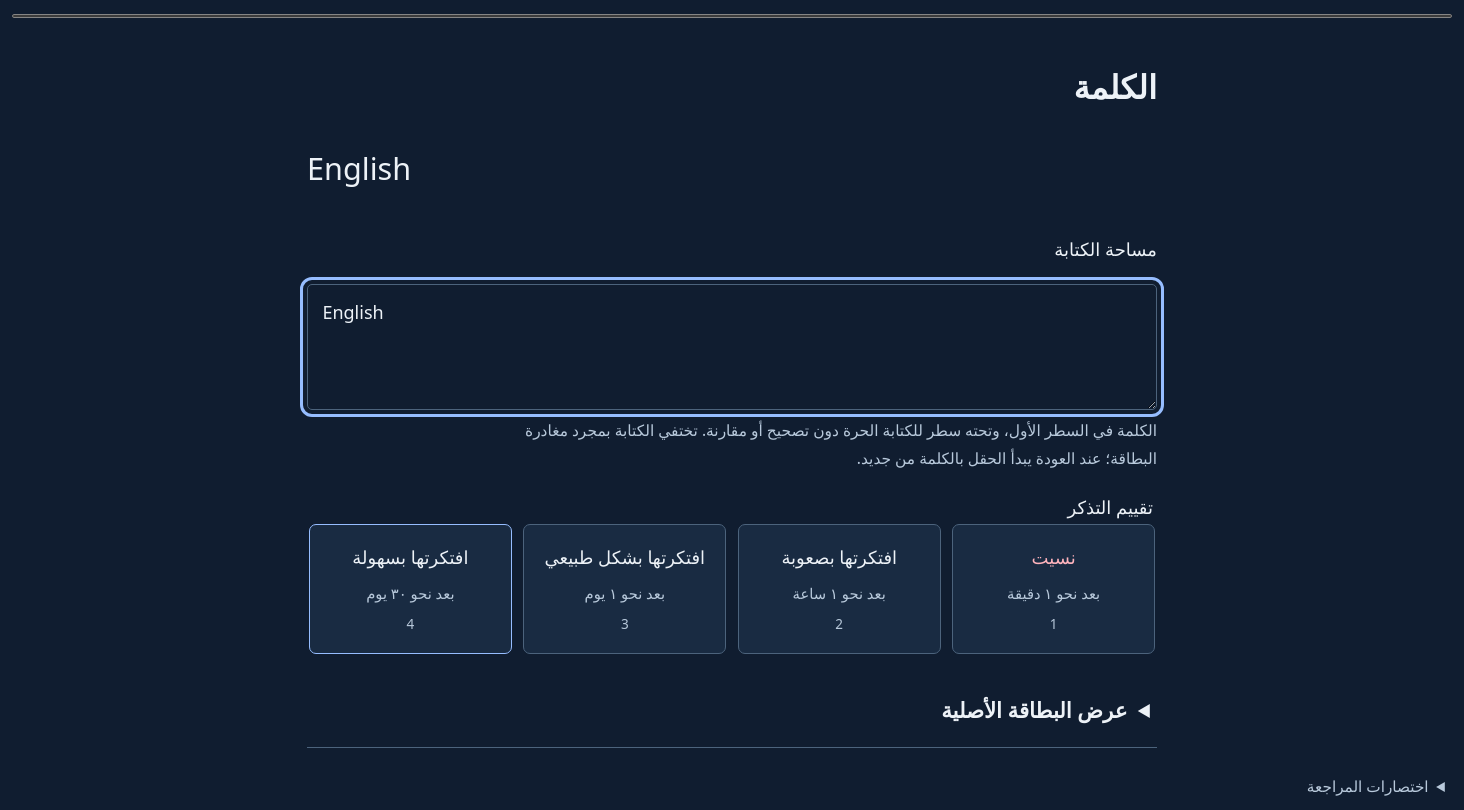
Test case: shows a manually readable whole word, focused prefilled field and direct intervals
(page scrolled)
Expected: the text "تختفي الكتابة بمجرد مغادرة البطاقة" is shown, [525,419,1157,469]
What coordinates should you click on to do the following:
click the button "افتكرتها بسهولة بعد نحو ٣٠ يوم 4"
I would click on:
 (410, 589)
Its box is [309,524,512,654].
(page scrolled)
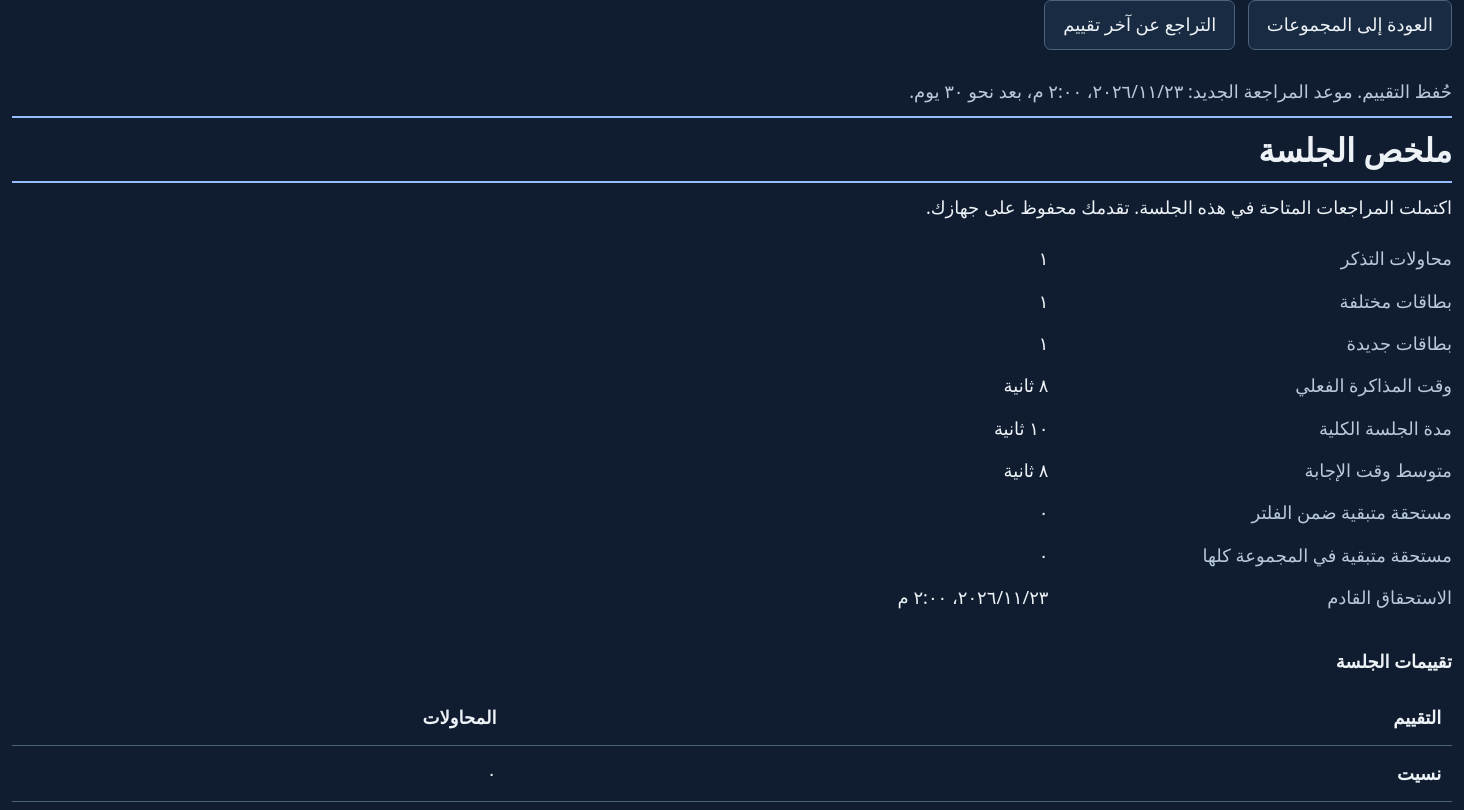
Expected: the heading "ملخص الجلسة" is shown, [1258,127,1452,171]
